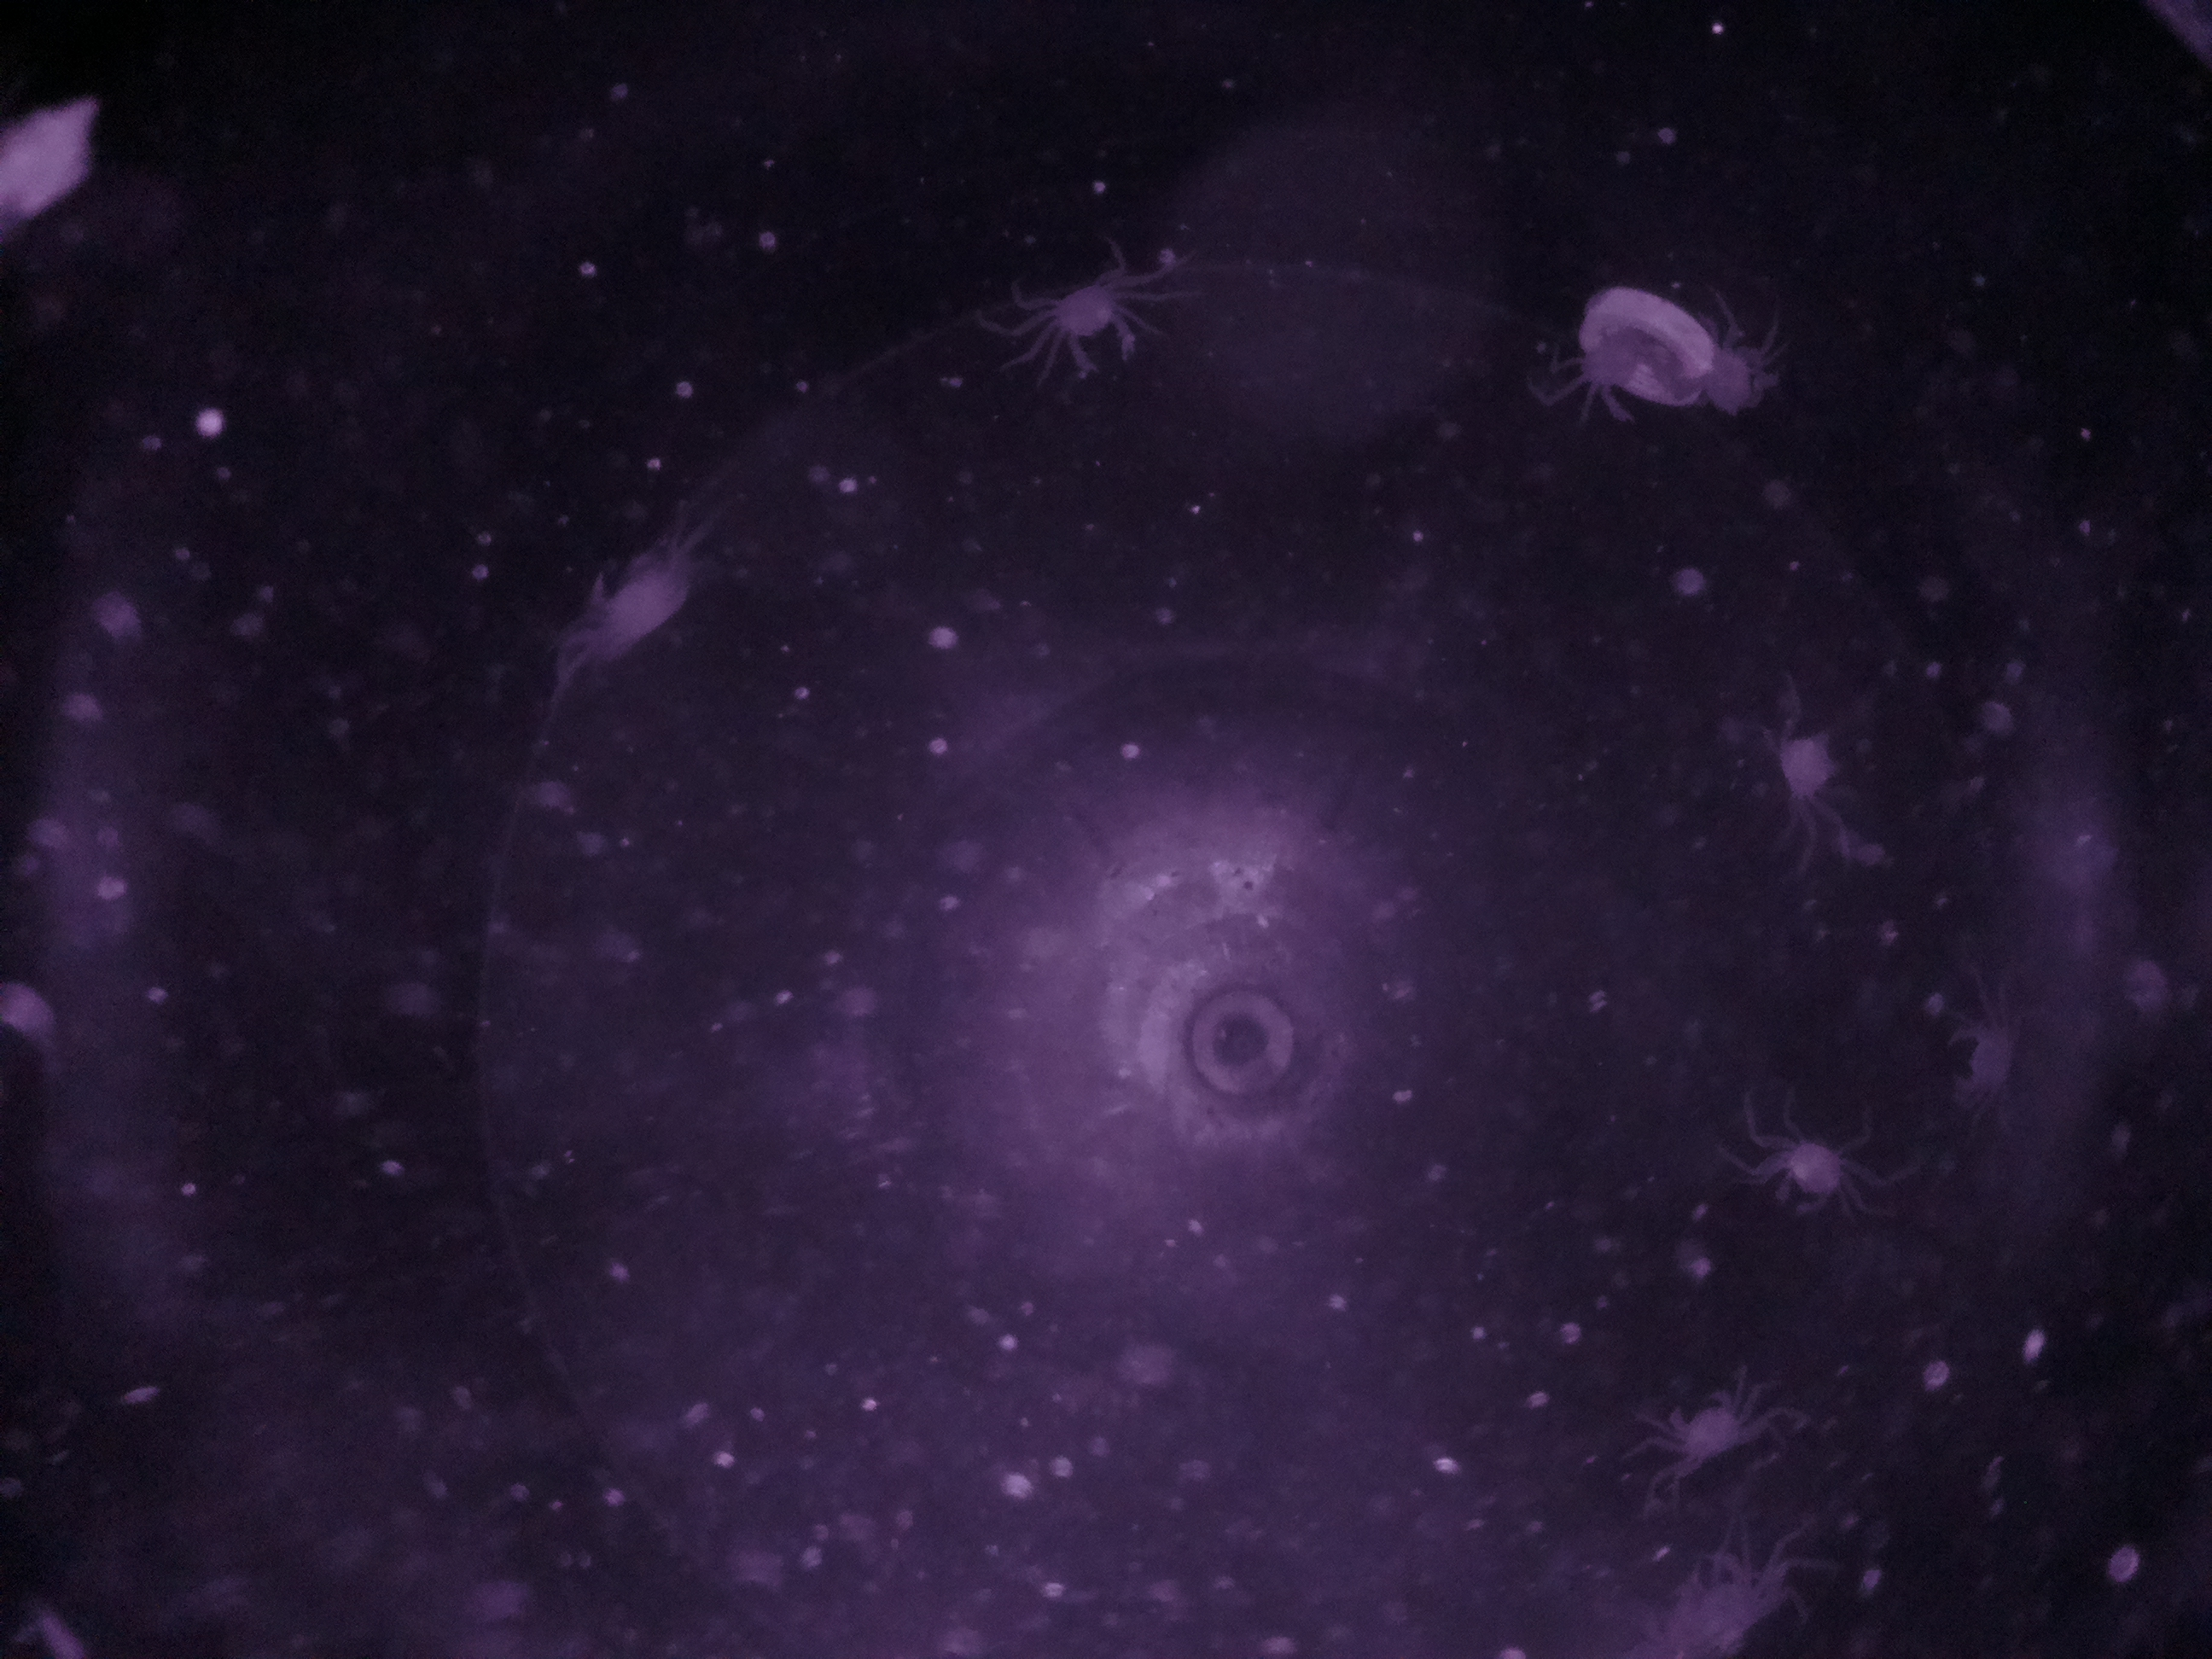Crab: (575, 549, 718, 664), (1735, 728, 1888, 821), (1040, 263, 1150, 387), (1648, 1373, 1768, 1483), (1768, 1103, 1862, 1230)
